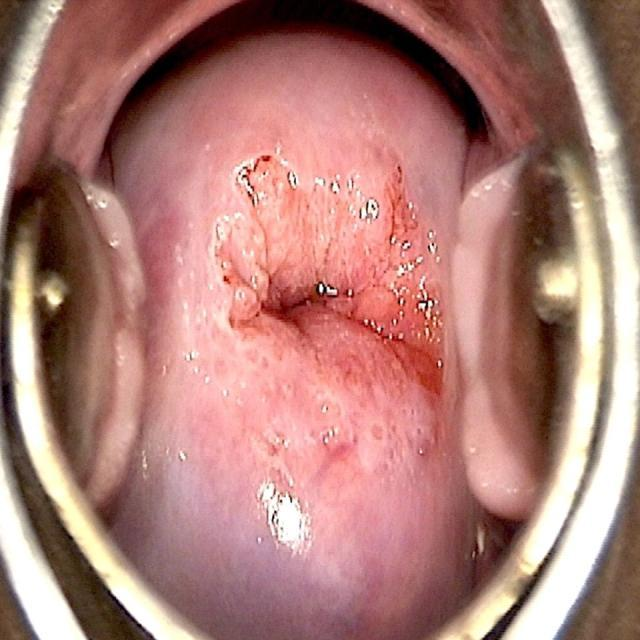cervical_lesion: (115, 89, 477, 592)
